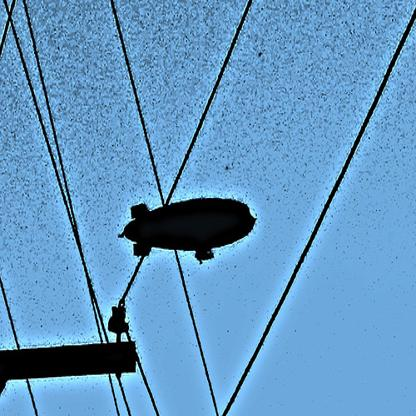Airship: (118, 199, 262, 265)
